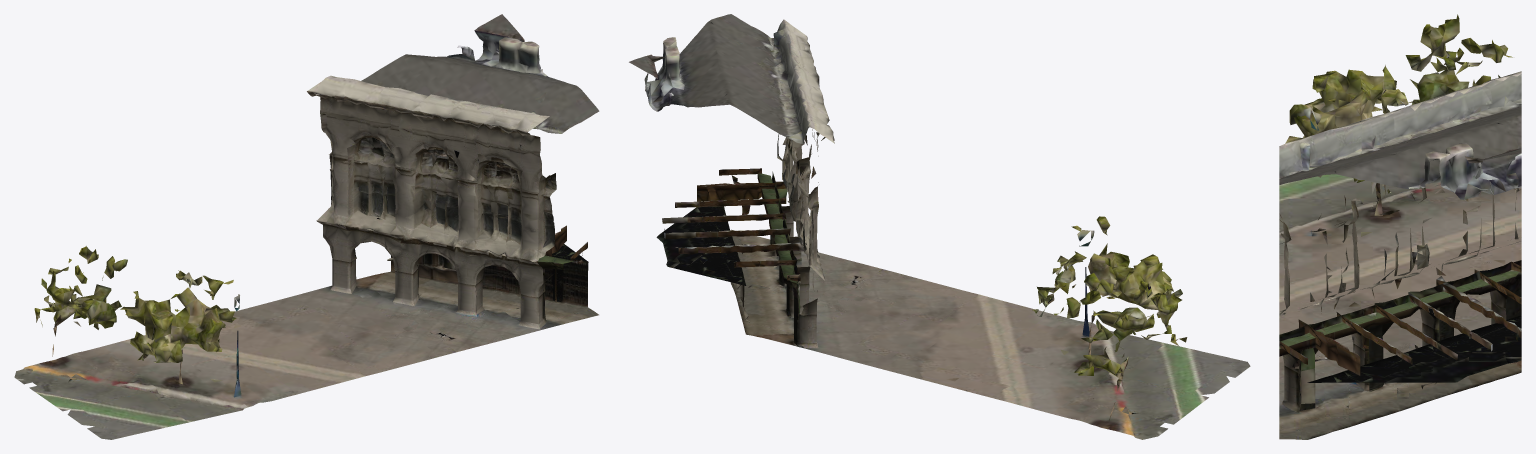
3 renders of one model, left to right at view 1: azimuth 30°, elevation 25°; view 2: azimuth 150°, elevation 25°; view 3: azimuth 270°, elevation 25°, orthographic. The views are drawn at different scales.
Bounding box in the file's own units: 36.16 × 16.67 × 12.34.
1 material, 1 textured.
